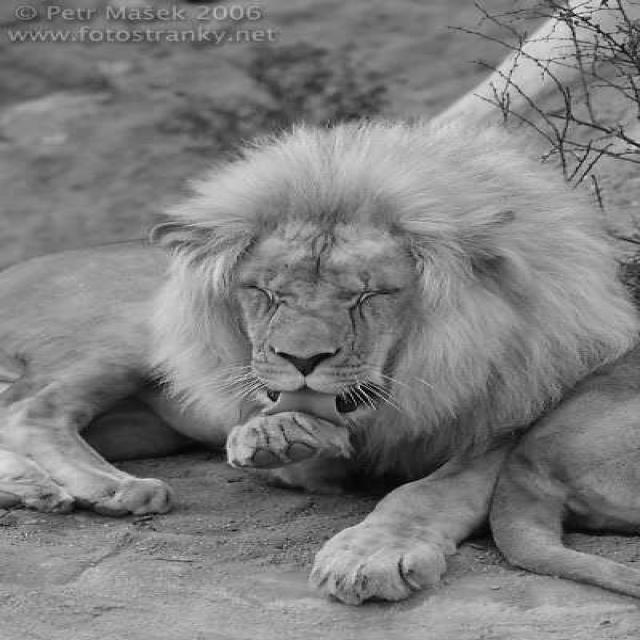Lion: (90, 138, 569, 509)
